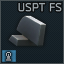HK USP Tactical front sight: (0, 0, 64, 64)
